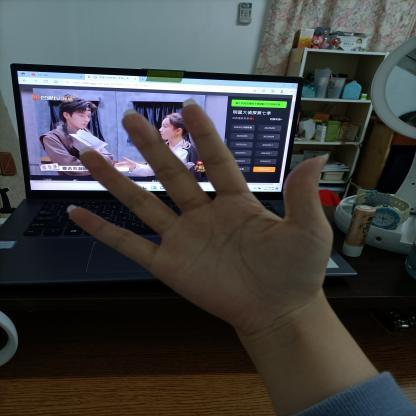bare_hand: (55, 93, 344, 338)
